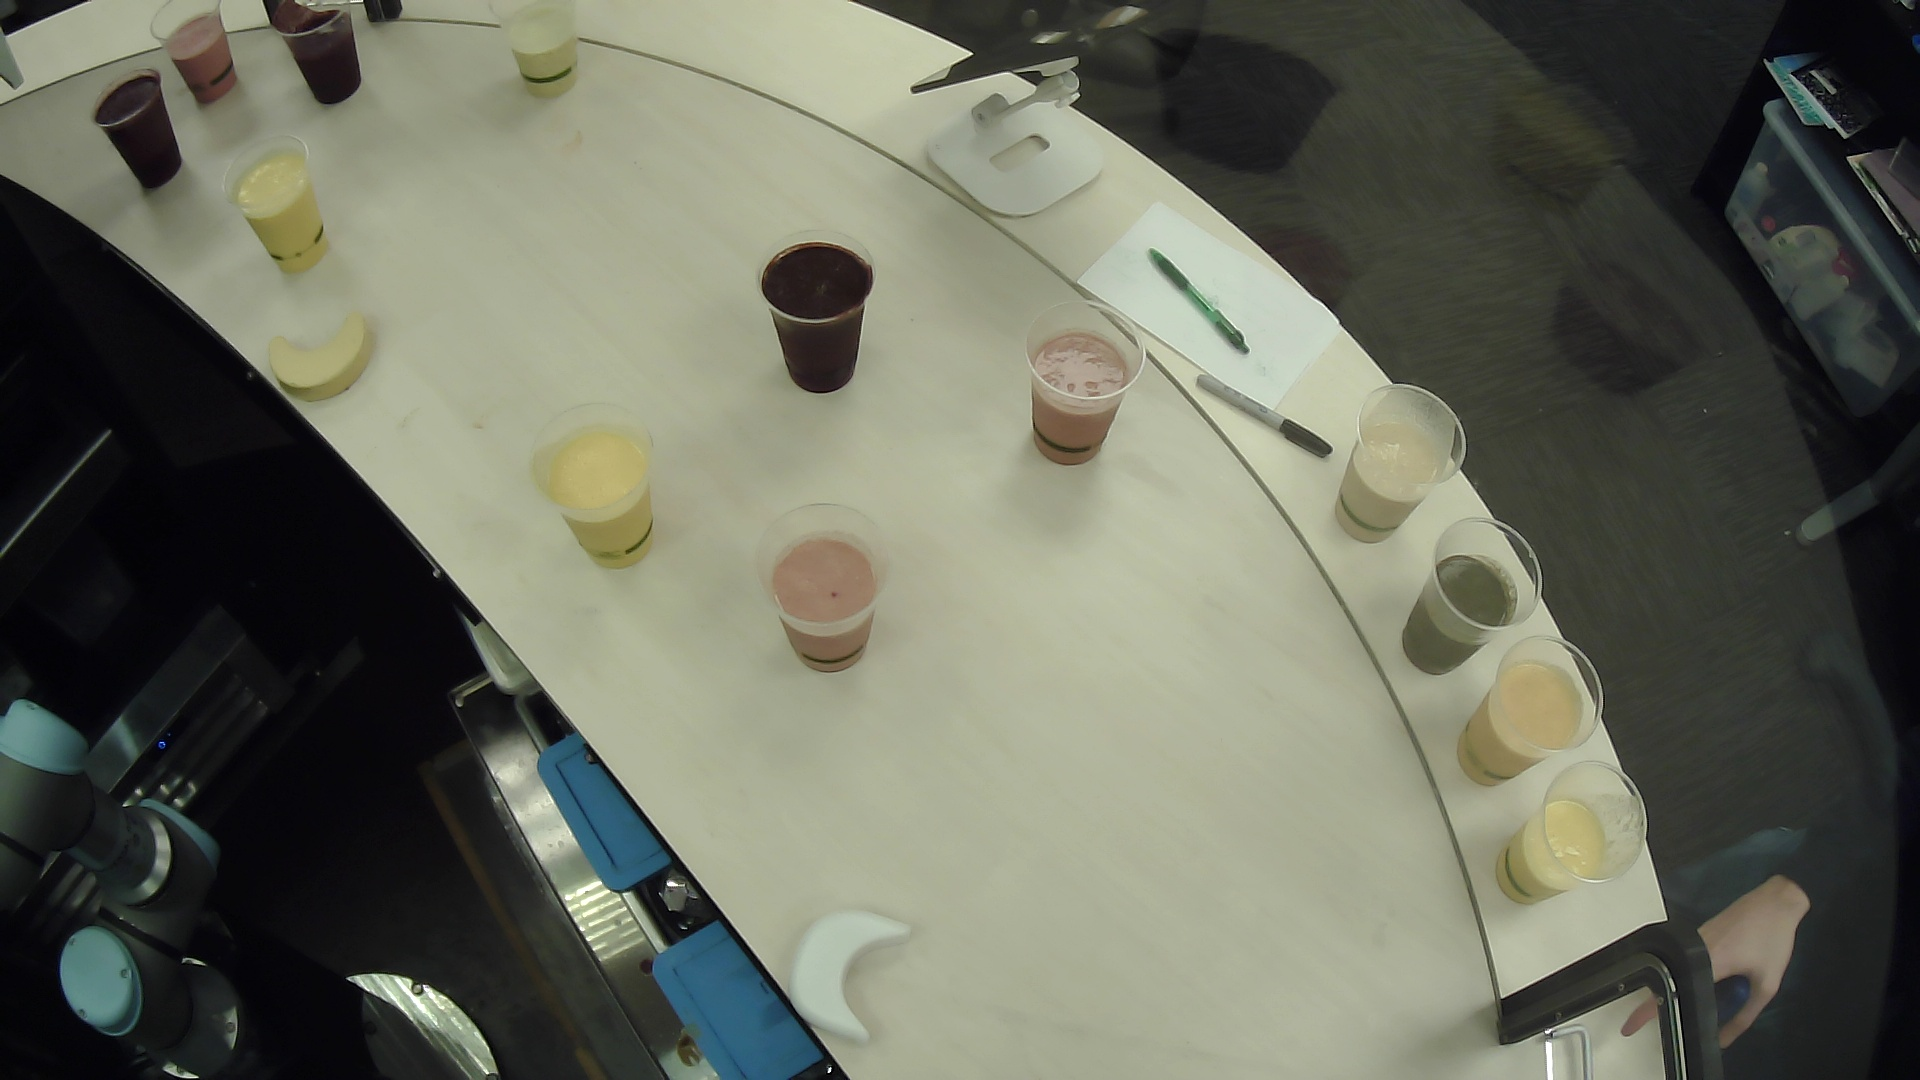Deliver: (773, 882, 944, 1051), (255, 295, 410, 425)
Full_cup: (1294, 363, 1487, 574), (1369, 510, 1565, 688), (732, 495, 910, 682), (517, 400, 675, 593), (1007, 285, 1154, 493), (1441, 629, 1613, 793), (1485, 760, 1660, 916), (211, 124, 367, 298), (749, 211, 881, 400), (80, 65, 206, 198), (483, 1, 618, 113), (262, 1, 384, 117), (146, 1, 252, 109)
